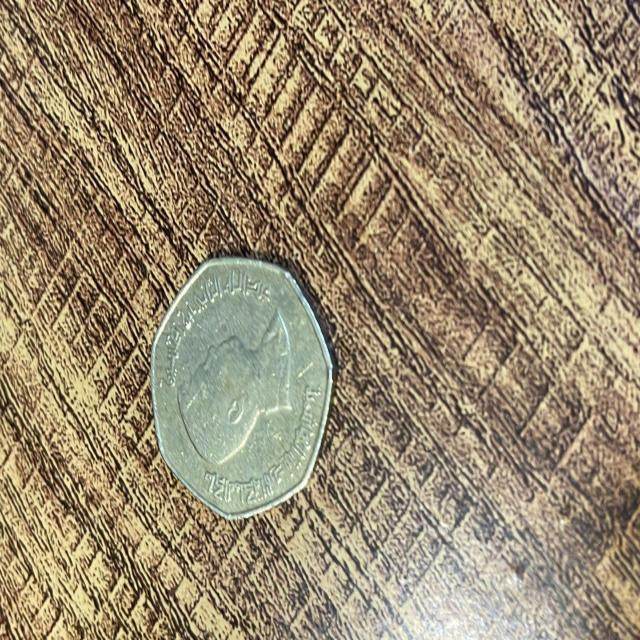25-coins: (149, 255, 335, 520)
